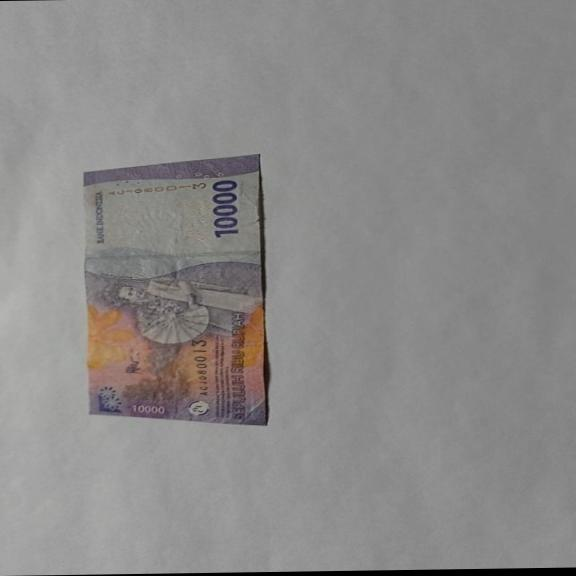Kertas: (80, 153, 270, 428), (209, 178, 240, 238)
